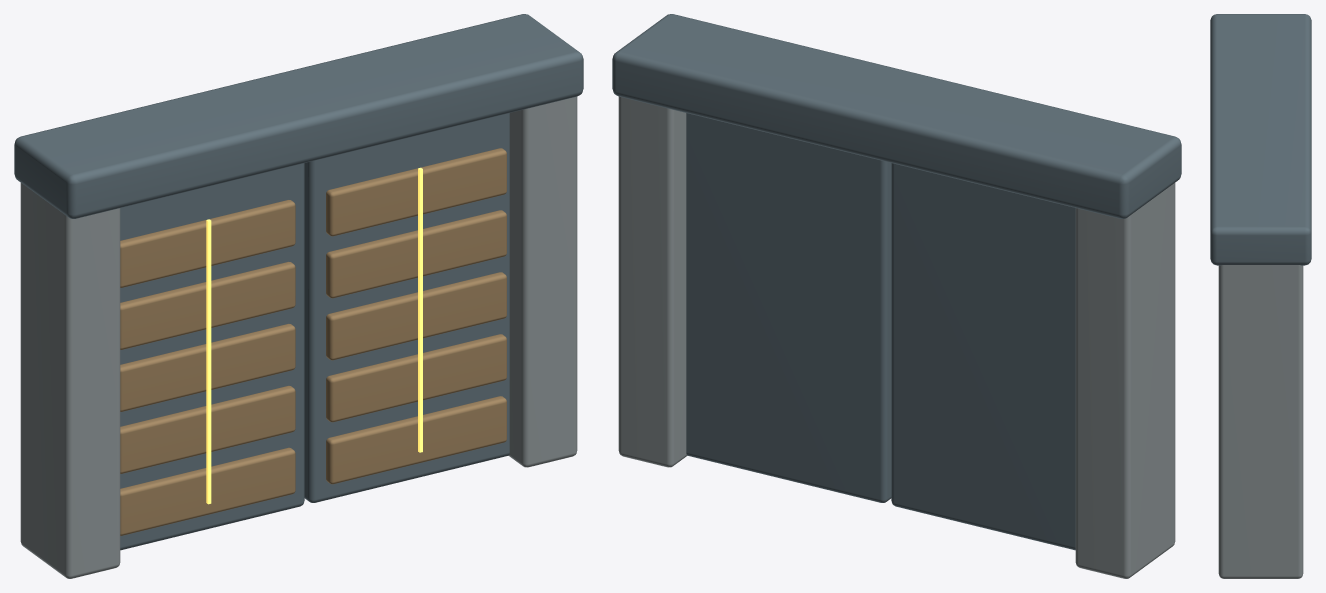
File: gate.glb
3 views of the same model, side by side, from view 1: azimuth 30°, elevation 25°; view 2: azimuth 150°, elevation 25°; view 3: azimuth 270°, elevation 25° (orthographic). The views are drawn at different scales.
Parts seen in each view (by area): view 1: gate_metal, gate_bronze, gate_concrete, gate_amber; view 2: gate_metal, gate_concrete; view 3: gate_concrete, gate_metal.
Boxes of the visible parts, bbox=[...] form: gate_metal: bbox=[14, 14, 583, 550]; gate_bronze: bbox=[120, 148, 506, 535]; gate_concrete: bbox=[20, 96, 577, 578]; gate_amber: bbox=[206, 167, 422, 504]; gate_metal: bbox=[612, 14, 1181, 550]; gate_concrete: bbox=[618, 96, 1175, 578]; gate_concrete: bbox=[1218, 265, 1303, 578]; gate_metal: bbox=[1210, 14, 1311, 265].
Size of the model in its own units: 6.1 by 4.6 by 1.2.
